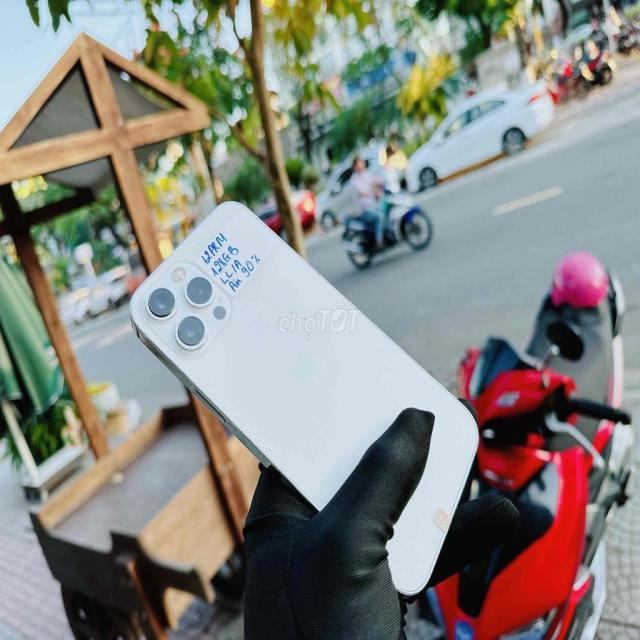gen_12_13: (131, 202, 478, 593)
